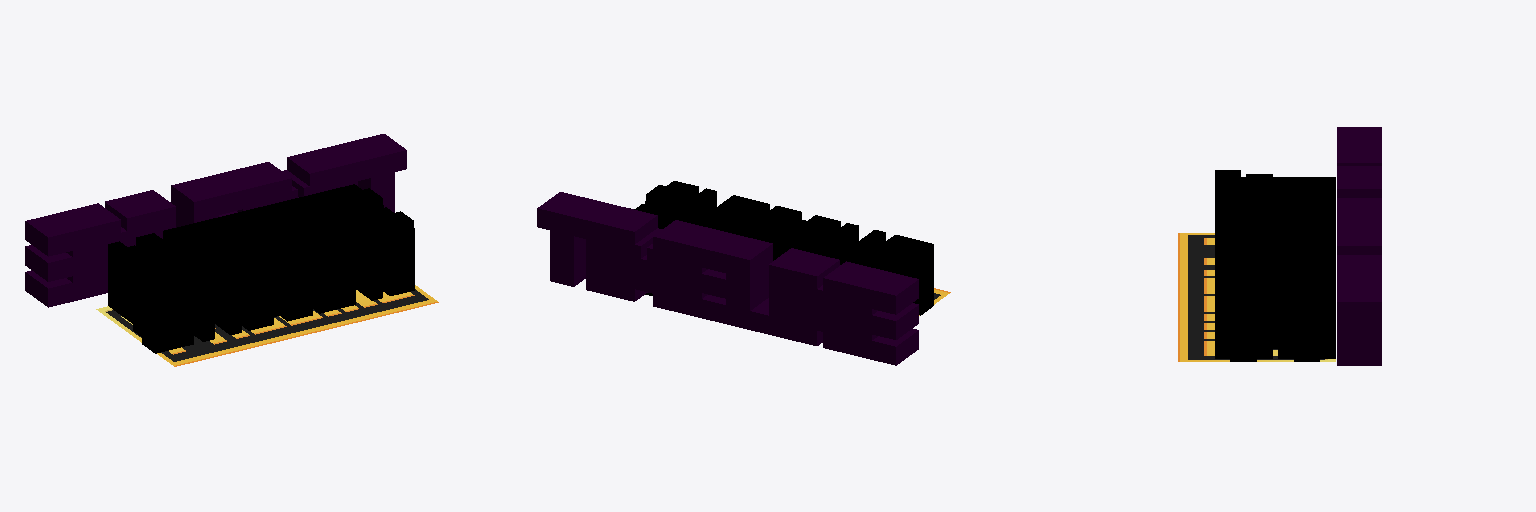
3 renders of one model, left to right at view 1: azimuth 30°, elevation 25°; view 2: azimuth 150°, elevation 25°; view 3: azimuth 270°, elevation 25°, orthographic.
Parts seen in each view (by area): view 1: cube; view 2: cube; view 3: cube.
Part boxes in pixels (x1,y1,x2,y2): cube: (25,134,438,366); cube: (537,181,950,365); cube: (1178,127,1381,365).
Size of the model in its own units: 118 by 26 by 58.25.
Materials: 5 (5 with a texture image).